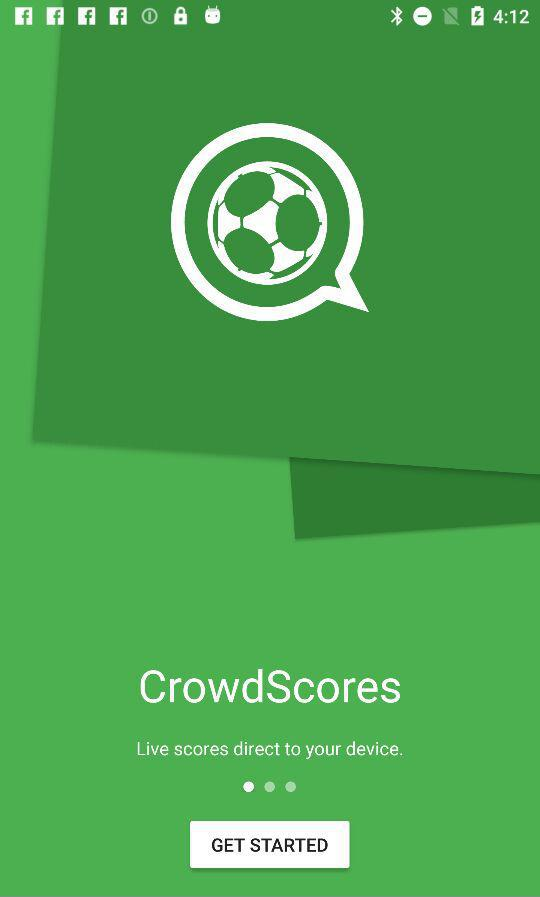Image: (170, 123, 371, 322)
PageIndicator: (242, 780, 298, 794)
Text: (140, 668, 401, 705), (137, 740, 403, 760)
TextButton: (190, 821, 351, 869)
UpperTaskBar: (1, 1, 540, 33)
